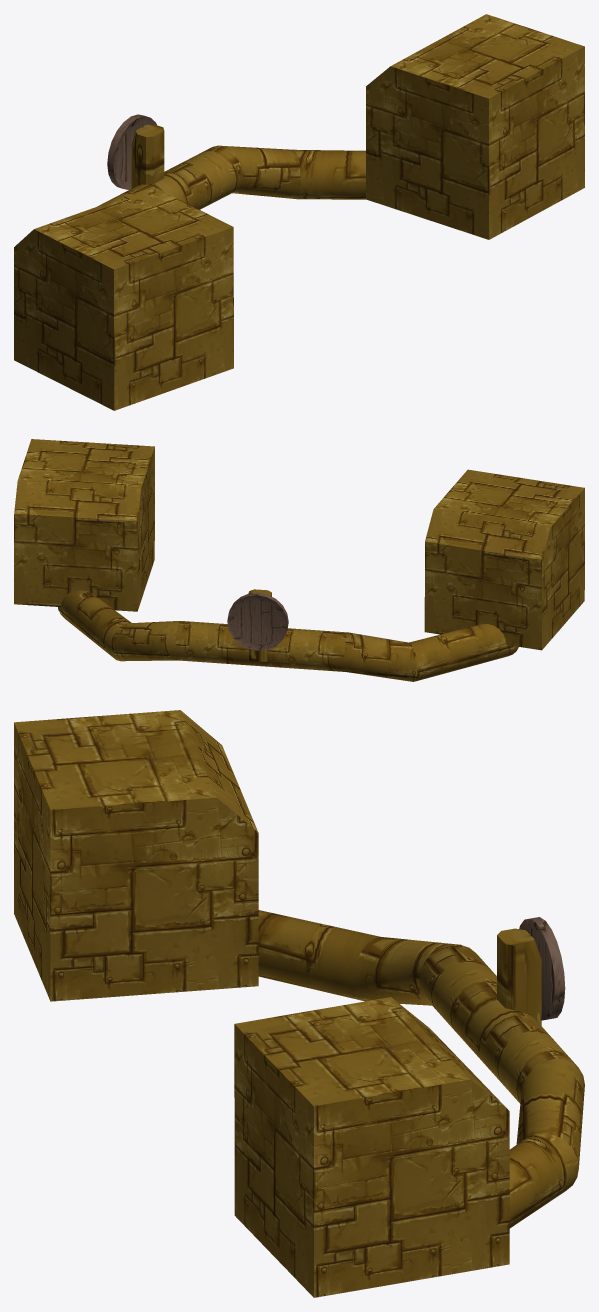
File: Valve.obj
3 views of the same model, one above another, from view 1: azimuth 30°, elevation 25°; view 2: azimuth 150°, elevation 25°; view 3: azimuth 270°, elevation 25° (orthographic). The views are drawn at different scales.
Visible parts, largest first — view 1: Valve1 pCube19, pCube20 Valve1, Valve1 pCylinder4, Valve1 pCube21, Valve1 pCube21 pCylinder5; view 2: Valve1 pCube19, pCube20 Valve1, Valve1 pCylinder4, Valve1 pCube21 pCylinder5; view 3: pCube20 Valve1, Valve1 pCube19, Valve1 pCylinder4, Valve1 pCube21, Valve1 pCube21 pCylinder5.
Part boxes in pixels (x1=…): Valve1 pCube19: x1=14, y1=186, x2=233, y2=410; pCube20 Valve1: x1=366, y1=14, x2=584, y2=239; Valve1 pCylinder4: x1=98, y1=145, x2=365, y2=209; Valve1 pCube21: x1=131, y1=124, x2=164, y2=188; Valve1 pCube21 pCylinder5: x1=107, y1=114, x2=156, y2=189; Valve1 pCube19: x1=424, y1=469, x2=584, y2=650; pCube20 Valve1: x1=14, y1=439, x2=154, y2=611; Valve1 pCylinder4: x1=58, y1=590, x2=518, y2=681; Valve1 pCube21 pCylinder5: x1=227, y1=592, x2=288, y2=650; pCube20 Valve1: x1=234, y1=997, x2=509, y2=1297; Valve1 pCube19: x1=14, y1=710, x2=258, y2=1001; Valve1 pCylinder4: x1=258, y1=910, x2=584, y2=1228; Valve1 pCube21: x1=497, y1=928, x2=541, y2=1025; Valve1 pCube21 pCylinder5: x1=519, y1=917, x2=565, y2=1020.
Size of the model in its own units: 6.05 by 1.57 by 3.65.
Materials: 2 (2 with a texture image).
